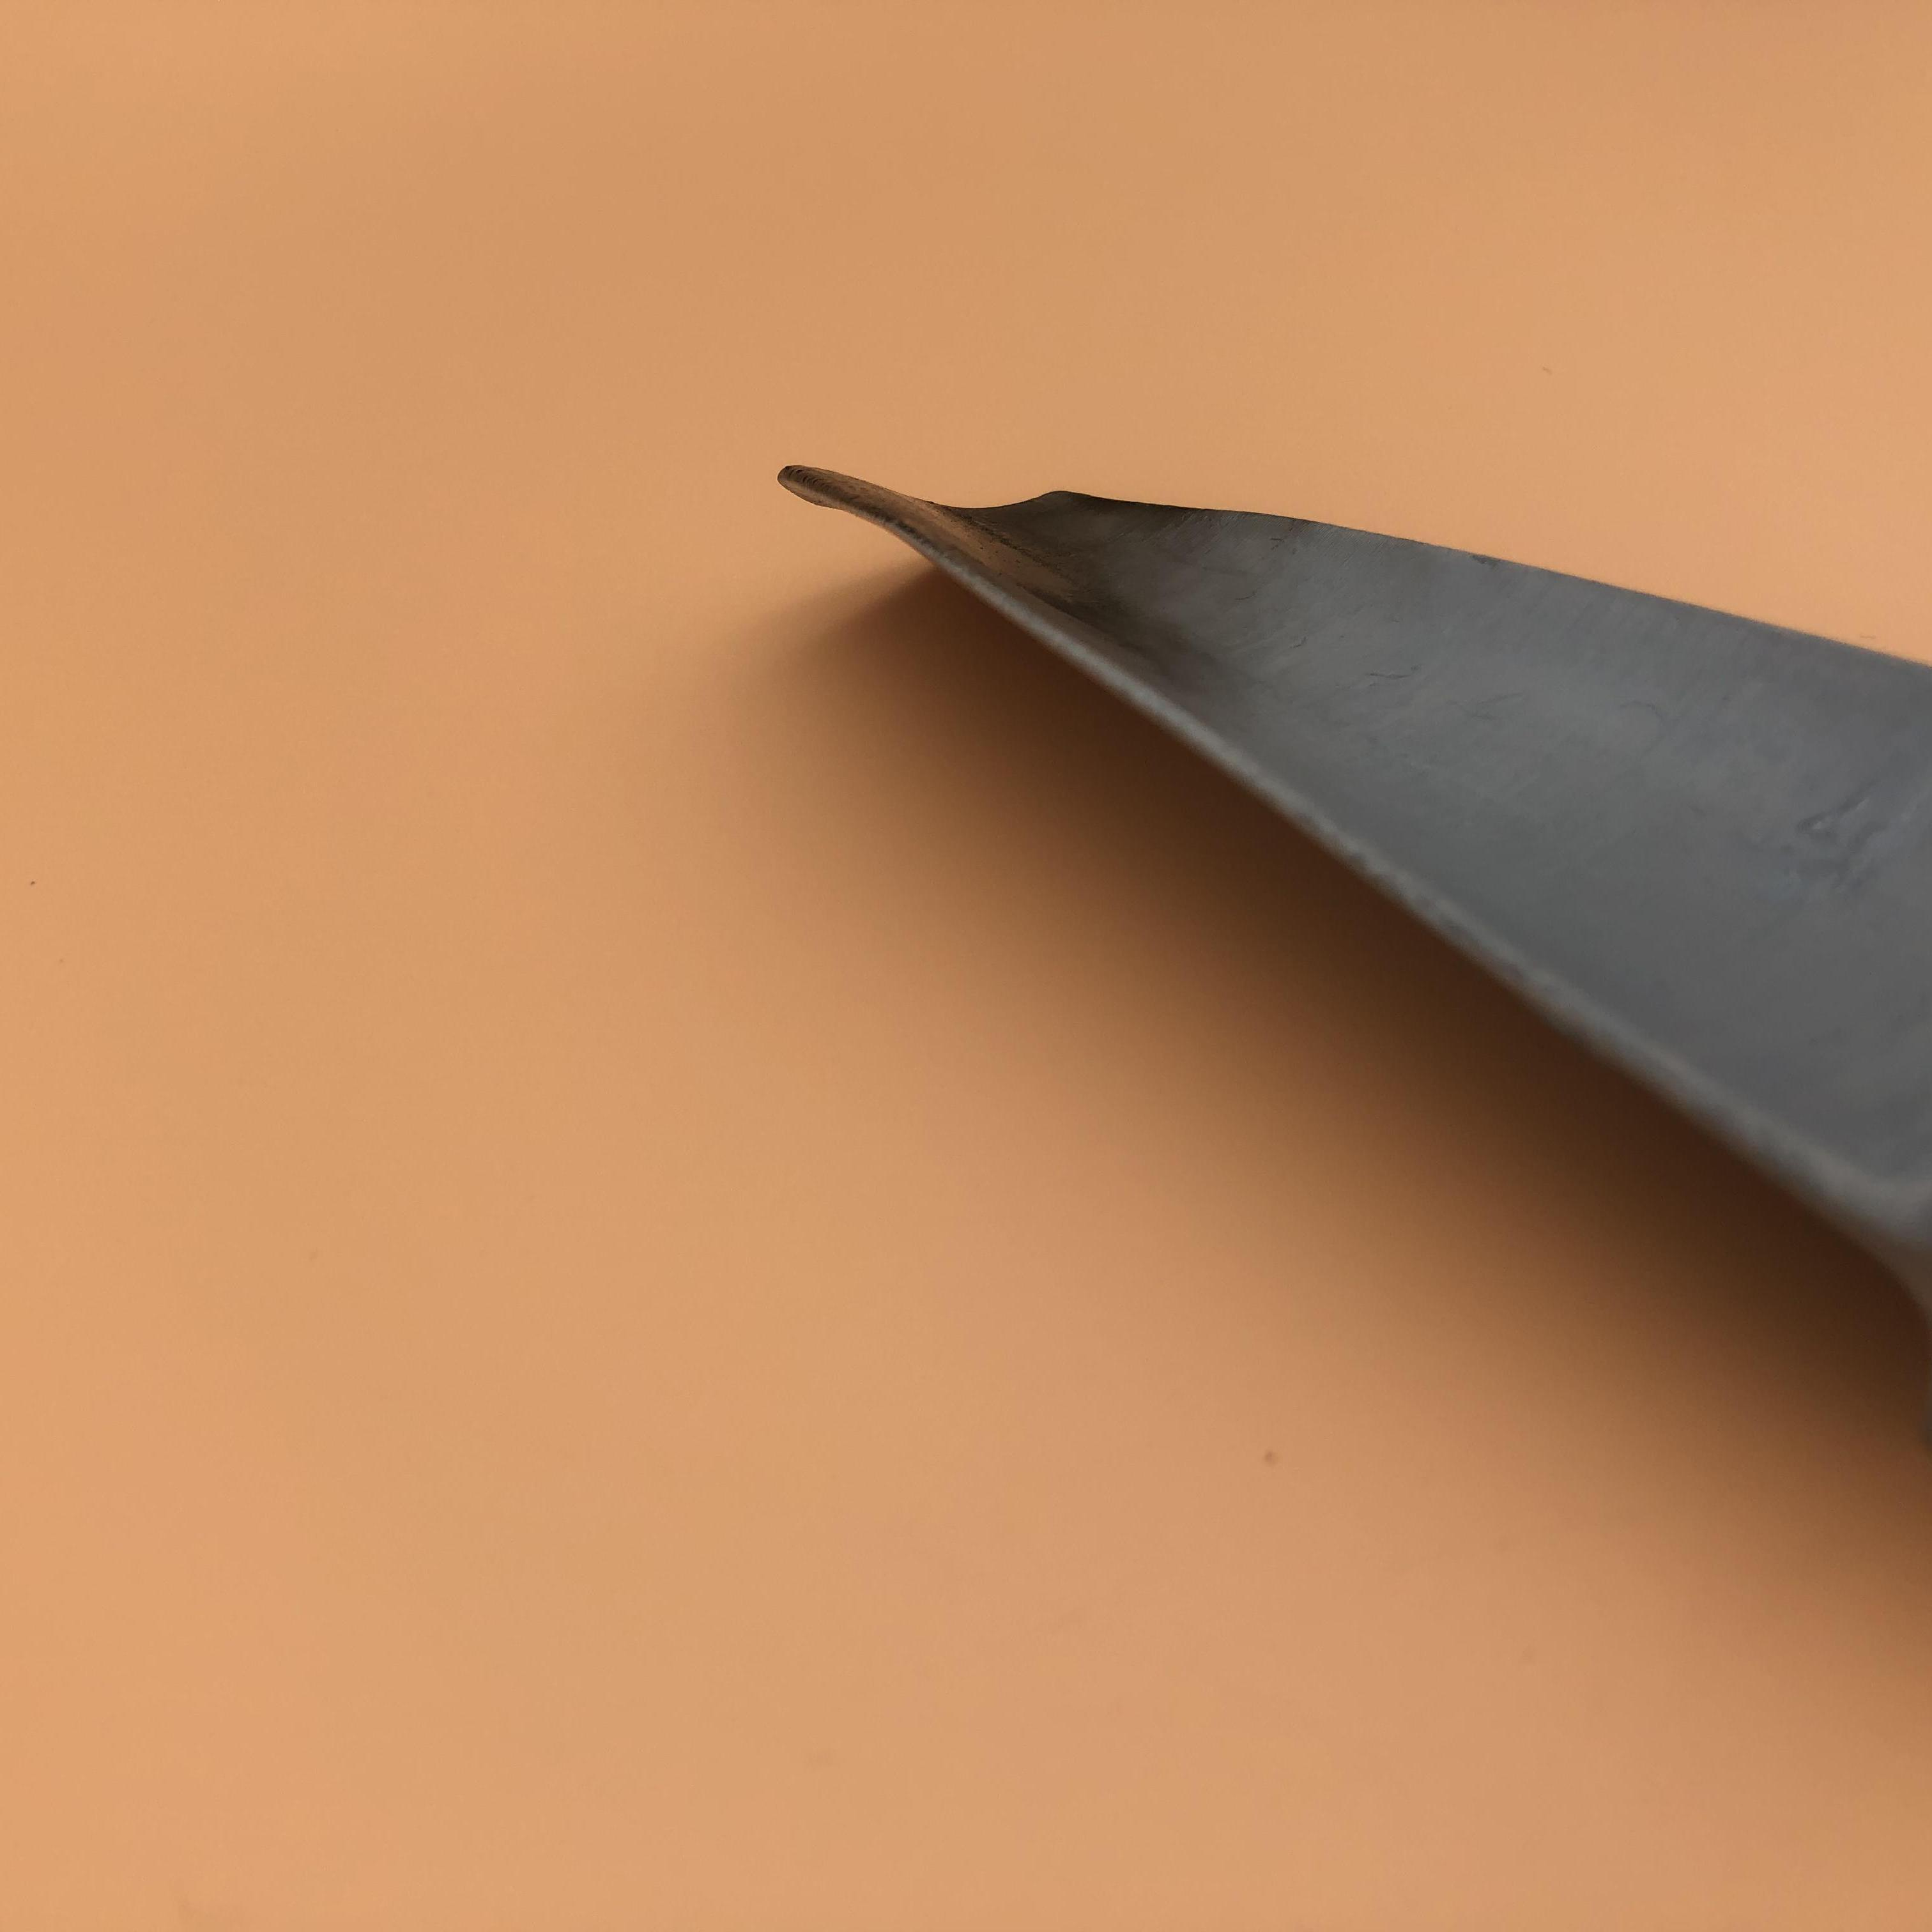ablation: (798, 469, 1274, 676)
